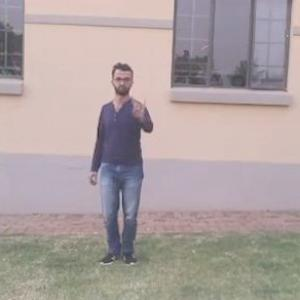takeoff-hand: (129, 86, 153, 126)
